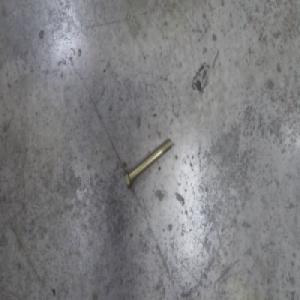Bolt: (123, 134, 173, 192)
